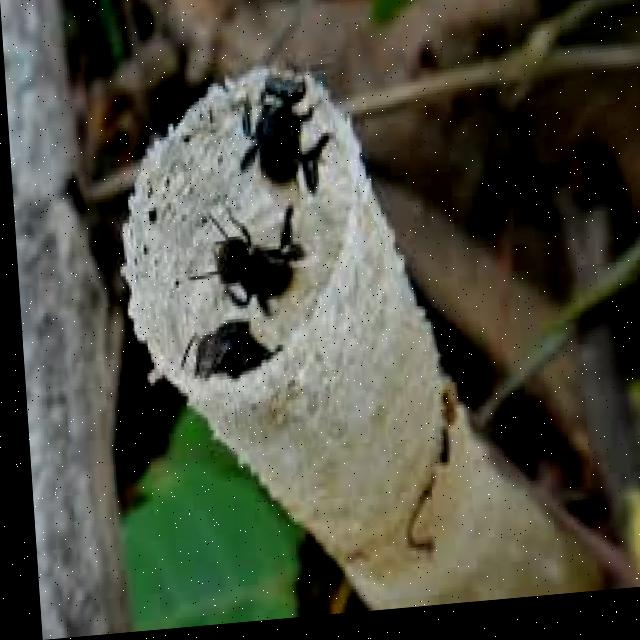Meliponula: (189, 194, 306, 346), (232, 59, 320, 215), (164, 302, 276, 418)
